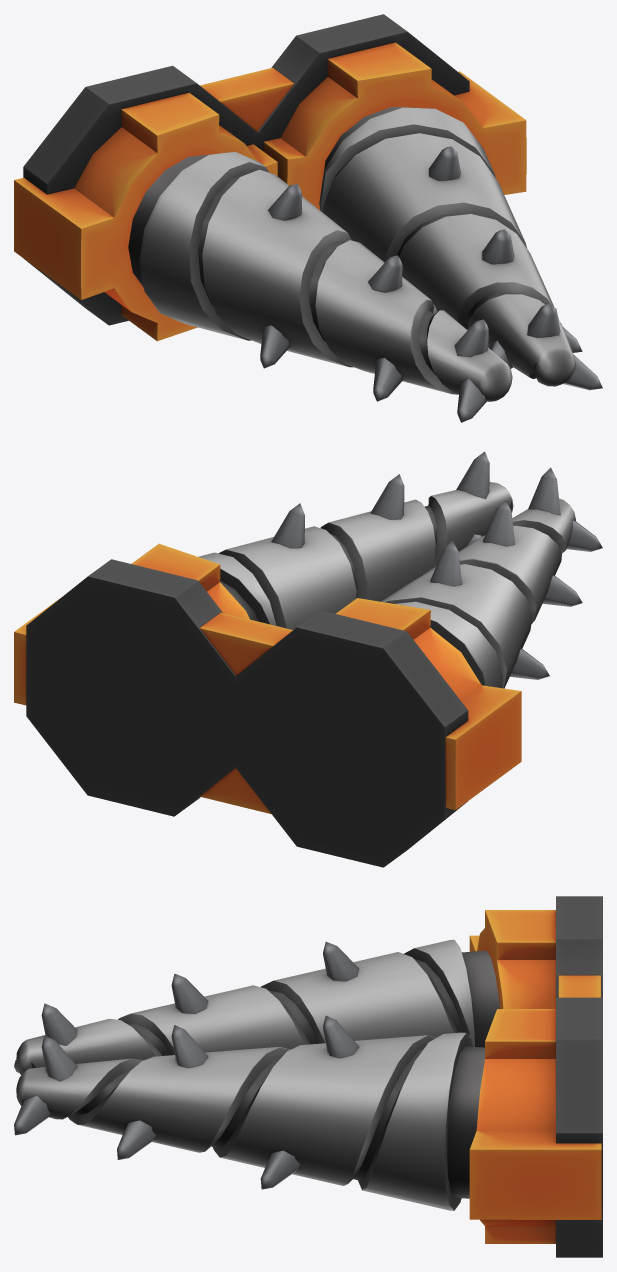
File: front_drill_arena_3.fbx
3 views of the same model, one above another, from view 1: azimuth 30°, elevation 25°; view 2: azimuth 150°, elevation 25°; view 3: azimuth 270°, elevation 25° (orthographic).
Visible parts, largest first — view 1: Cylinder.122, Cylinder.115, Cylinder.117; view 2: Cylinder.122, Cylinder.117, Cylinder.115; view 3: Cylinder.117, Cylinder.122, Cylinder.115.
Part boxes in pixels (x1,y1,x2,y2): Cylinder.122: (14, 14, 526, 341); Cylinder.115: (128, 151, 512, 422); Cylinder.117: (319, 107, 602, 390); Cylinder.122: (14, 543, 521, 867); Cylinder.117: (198, 451, 513, 629); Cylinder.115: (381, 467, 602, 688); Cylinder.117: (14, 1015, 484, 1210); Cylinder.122: (469, 896, 602, 1257); Cylinder.115: (14, 939, 499, 1074).
Size of the model in its own units: 210 by 99.49 by 244.
